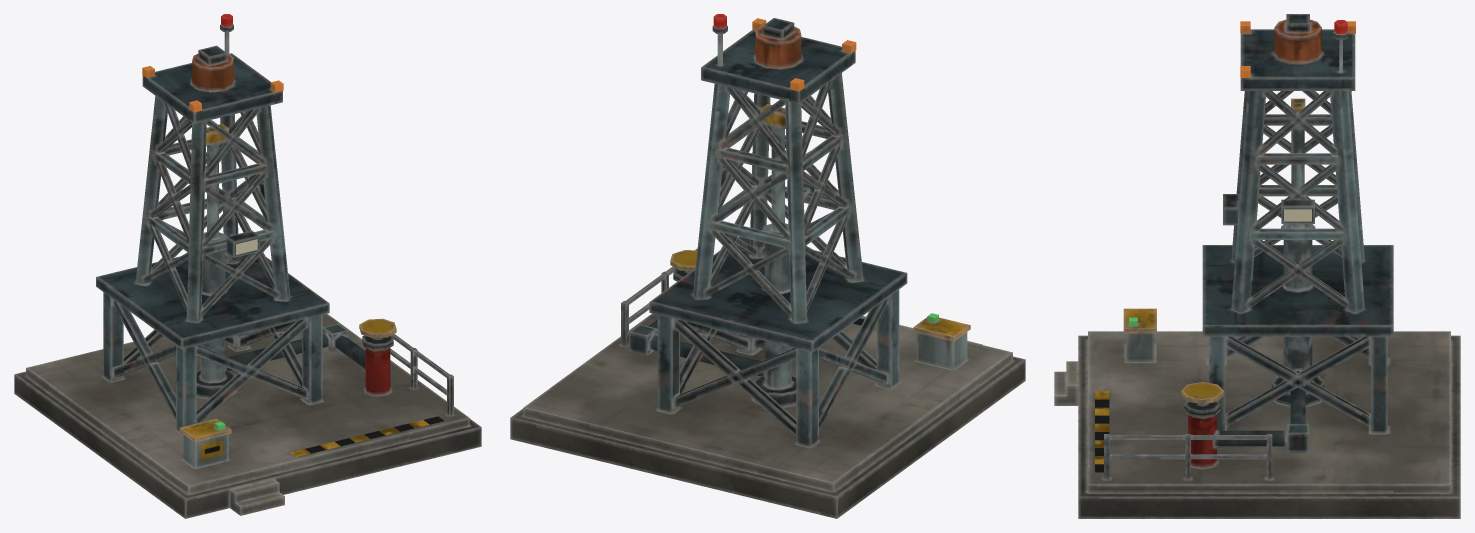
The model's file is pump.glb.
3 views of the same model, side by side, from view 1: azimuth 30°, elevation 25°; view 2: azimuth 150°, elevation 25°; view 3: azimuth 270°, elevation 25° (orthographic). The views are drawn at different scales.
Visible parts, largest first — view 1: te_pump, move_rod; view 2: te_pump, move_rod; view 3: te_pump, move_rod.
Part boxes in pixels (x1,y1,x2,y2): te_pump: (14, 14, 481, 518); move_rod: (206, 124, 228, 239); te_pump: (510, 14, 1025, 518); move_rod: (760, 104, 785, 232); te_pump: (1054, 14, 1460, 518); move_rod: (1291, 98, 1305, 228).
Bounding box in the file's own units: 0.8 × 0.9744 × 0.85.
1 material, 1 textured.
